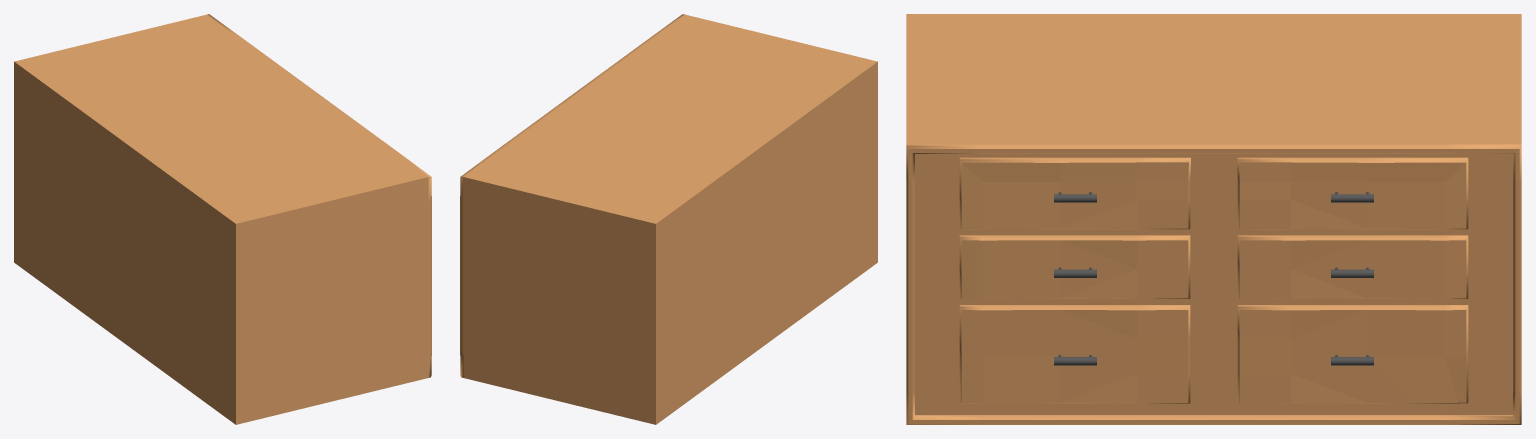
The model's file is Dresser.fbx.
3 views of the same model, side by side, from view 1: azimuth 30°, elevation 25°; view 2: azimuth 150°, elevation 25°; view 3: azimuth 270°, elevation 25° (orthographic). The views are drawn at different scales.
Visible parts, largest first — view 1: Dresser; view 2: Dresser; view 3: Dresser, Bottom_Right, Bottom_left, top_right, Top_Left, Middle_right, middle_left.
Boxes of the visible parts, left/top/right/bottom form: Dresser: left=14, top=14, right=431, bottom=424; Dresser: left=460, top=14, right=877, bottom=424; Dresser: left=906, top=14, right=1521, bottom=424; Bottom_Right: left=1237, top=305, right=1468, bottom=403; Bottom_left: left=959, top=305, right=1190, bottom=403; top_right: left=1237, top=157, right=1468, bottom=229; Top_Left: left=959, top=157, right=1190, bottom=229; Middle_right: left=1237, top=235, right=1468, bottom=298; middle_left: left=959, top=235, right=1190, bottom=298.
Bounding box in the file's own units: 215 × 206 × 400.
